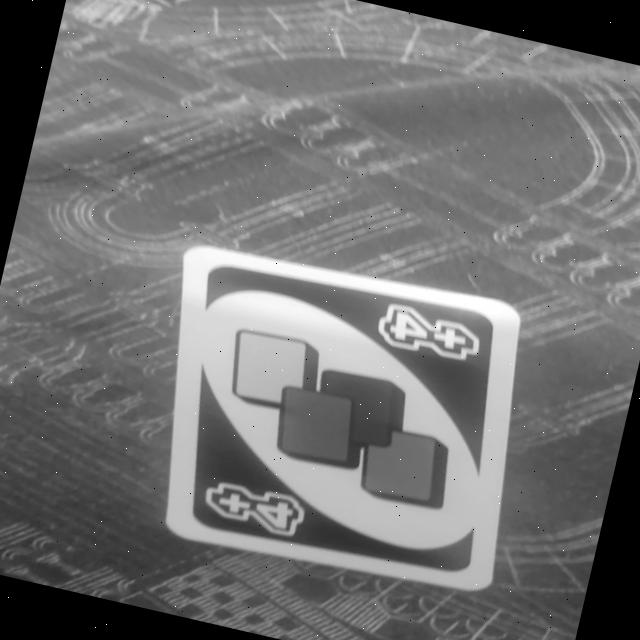card_4-: (119, 226, 556, 609)
